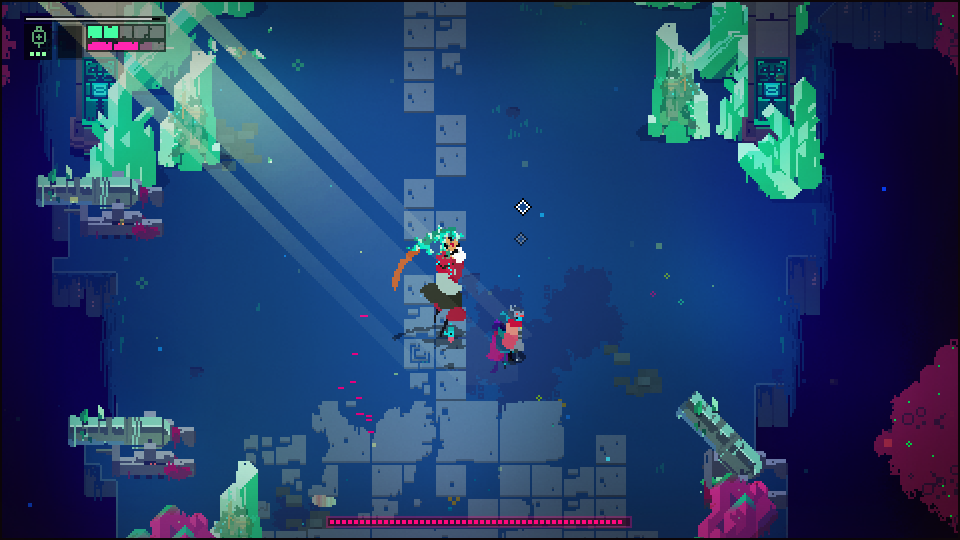hanged_man: (403, 224, 468, 344)
player: (496, 301, 529, 368)
